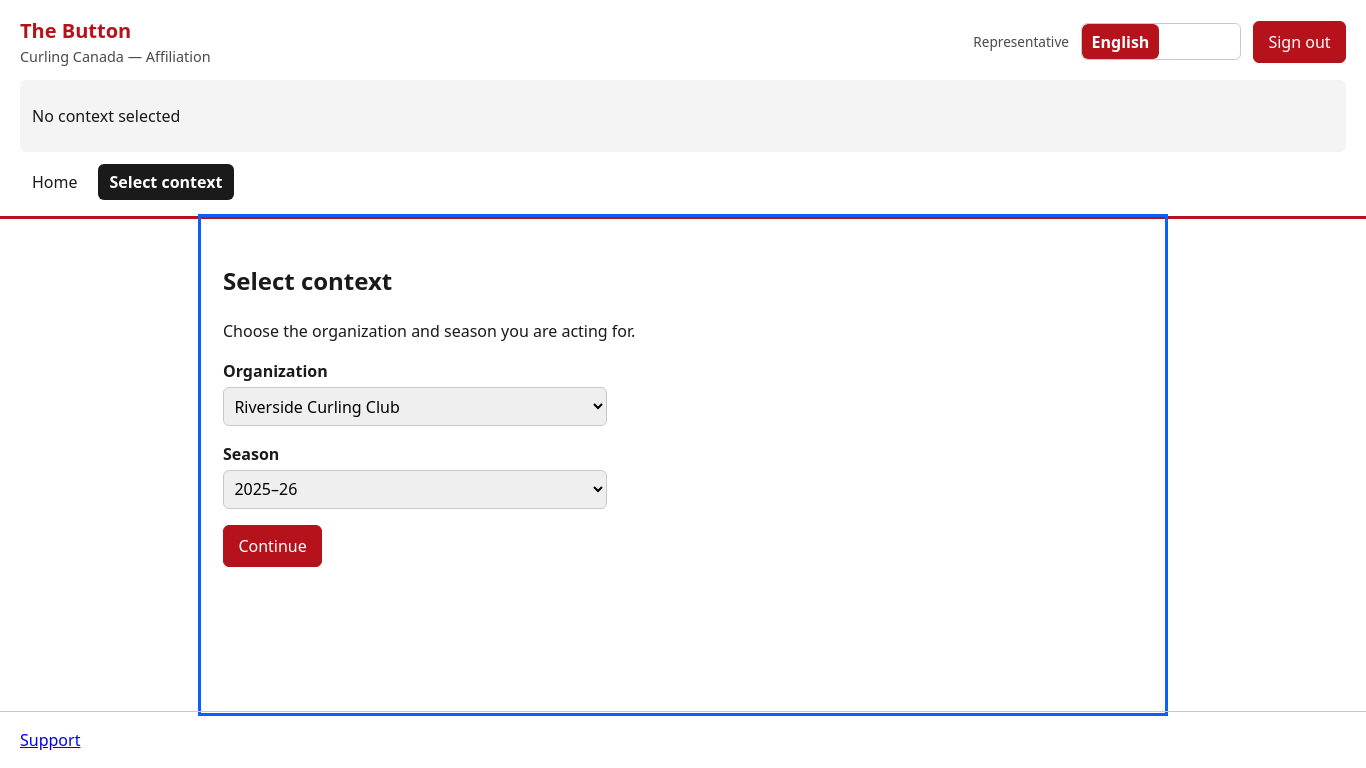
Test: Button application shell › (8) switching language preserves the current route
This screenshot has width=1366, height=768.
Check: the heading "Select context" is shown, box [223,264,392,297]
Click the button "Français" at (1200, 42), box [1159,24,1240,59]
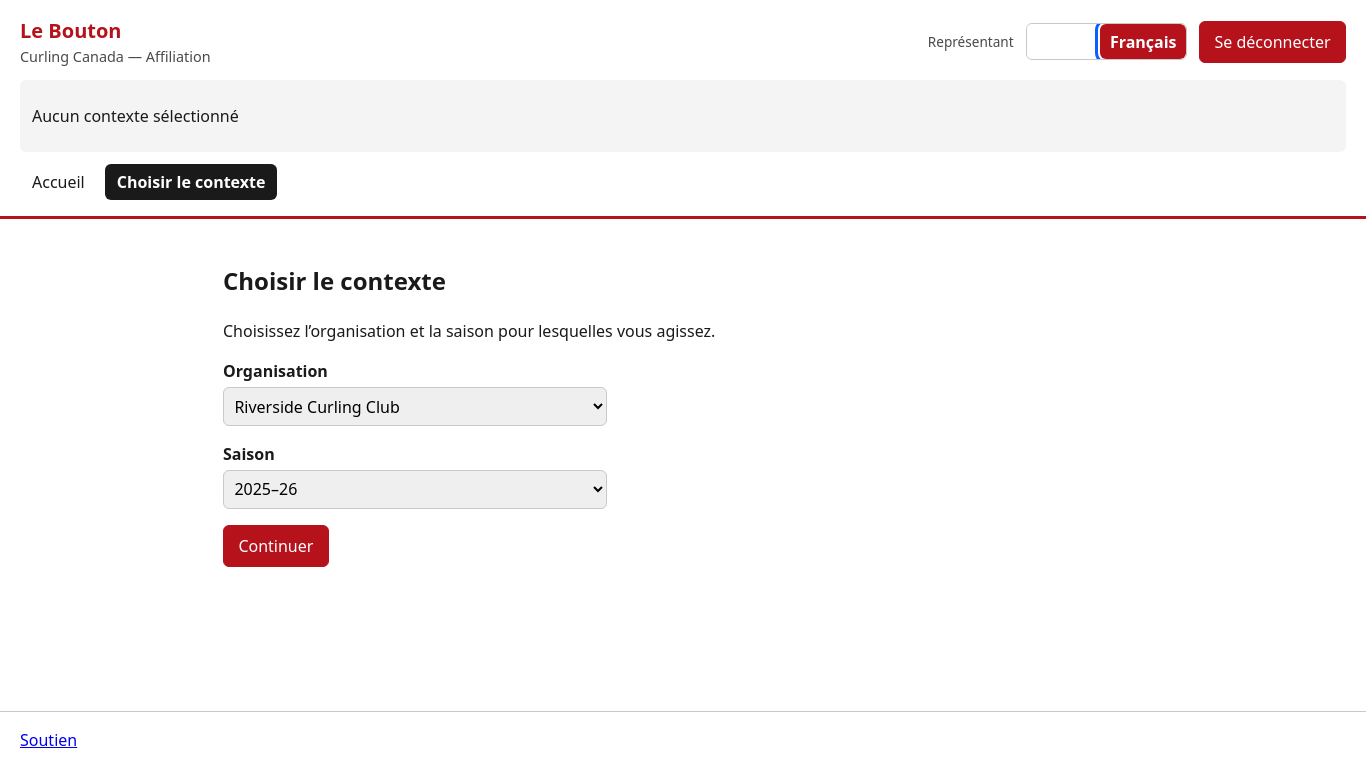
Check: the heading "Choisir le contexte" is shown, box [223,264,446,297]
